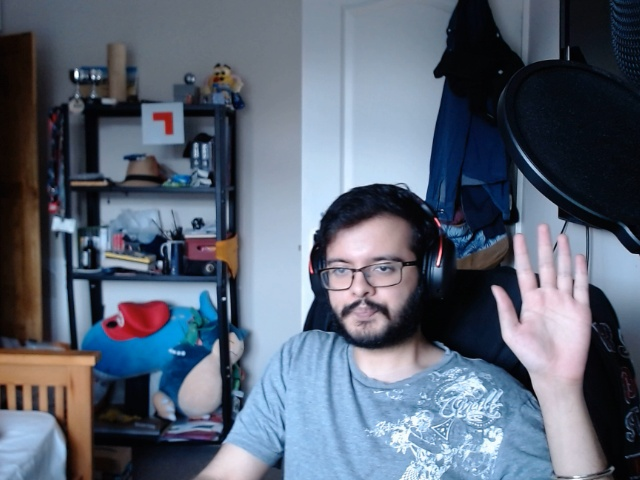Hello: (487, 224, 598, 411)
